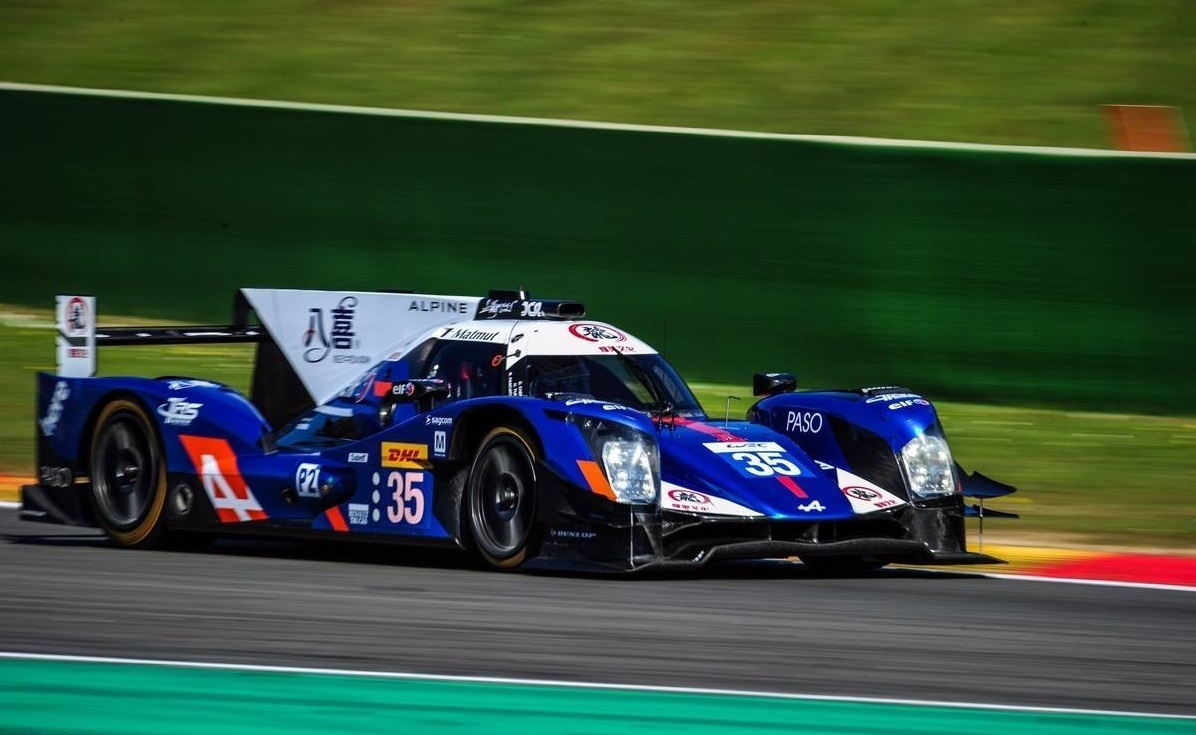racing car: (28, 239, 1007, 601)
